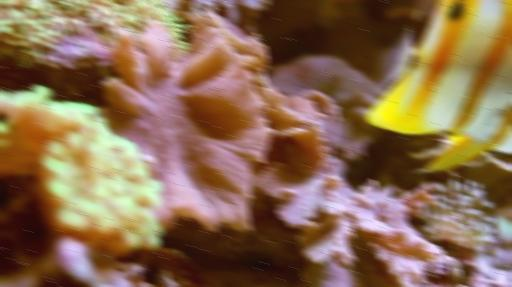Fish: (366, 0, 511, 172)
